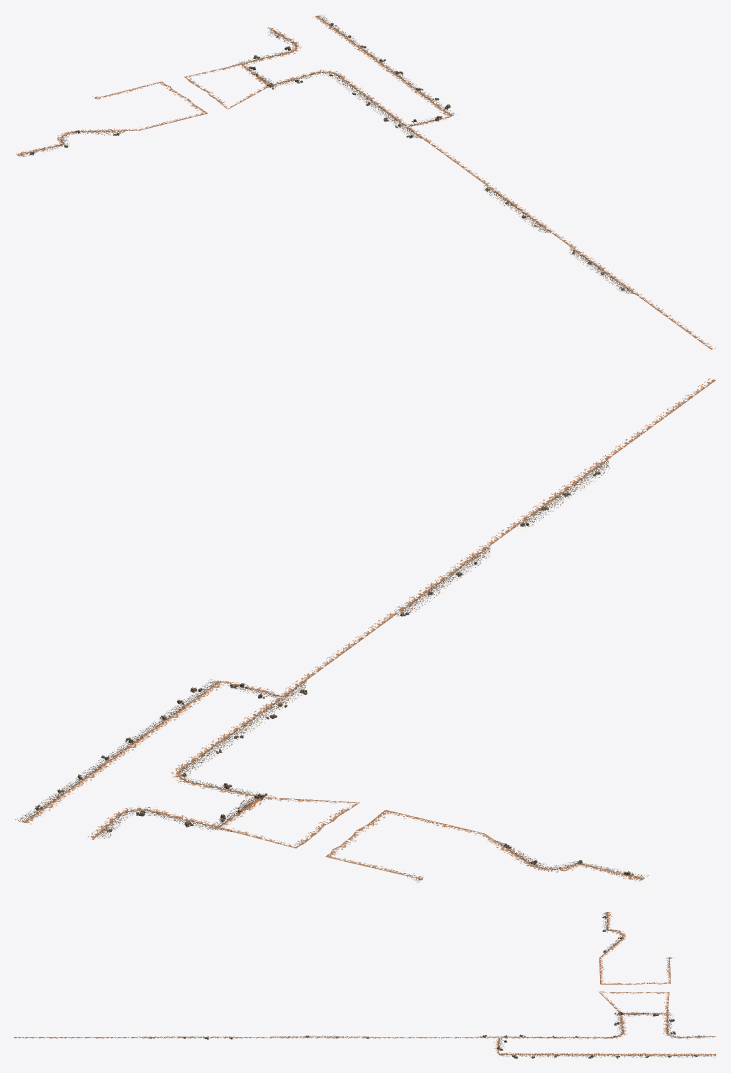
Rendered from RoadEdge.fbx.
3 renders of one model, top to bottom at view 1: azimuth 30°, elevation 25°; view 2: azimuth 150°, elevation 25°; view 3: azimuth 270°, elevation 25°, orthographic. The views are drawn at different scales.
Visible parts, largest first — view 1: RoadEdge; view 2: RoadEdge; view 3: RoadEdge.
Part boxes in pixels (x1,y1,x2,y2): RoadEdge: (16,15,715,349); RoadEdge: (15,378,715,883); RoadEdge: (14,912,715,1058).
Size of the model in its own units: 5981 by 70.92 by 12168.
1 material, 1 textured.
